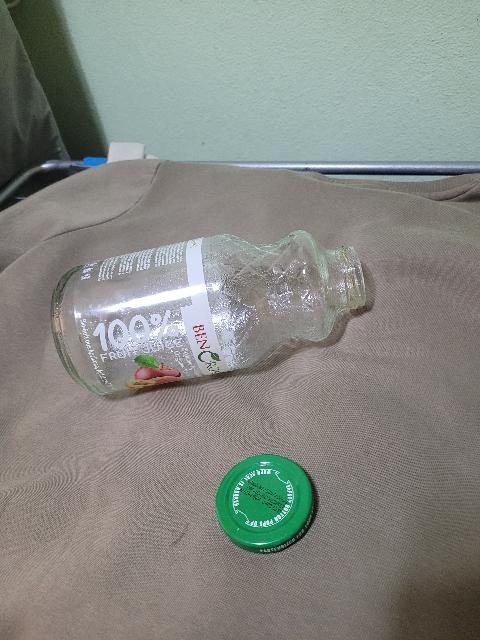Cam: (44, 227, 378, 399)
Metal: (214, 444, 317, 555)
